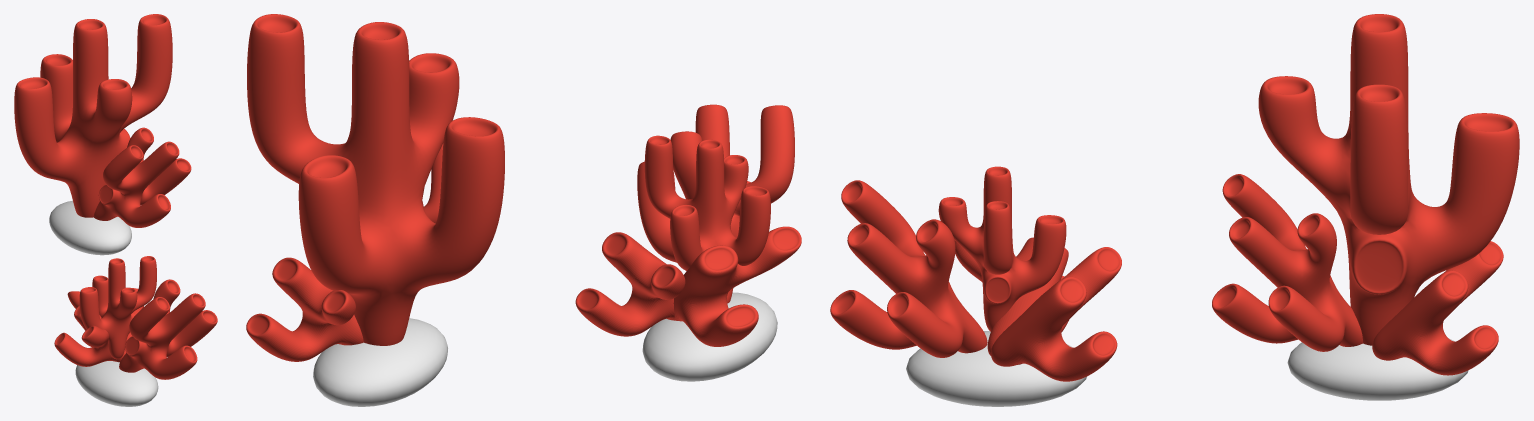
The model's file is coral_2.fbx.
The picture shows the model from 3 angles, left to right: view 1: azimuth 30°, elevation 25°; view 2: azimuth 150°, elevation 25°; view 3: azimuth 270°, elevation 25°; orthographic projection. The views are drawn at different scales.
Parts seen in each view (by area): view 1: Cube, Cube.004, Cube.001, Cube.003, Sphere, Sphere.001, Cube.006, Cube.005; view 2: Cube, Cube.003, Cube.004, Sphere, Cube.006, Cube.002, Cube.005, Sphere.001, Cube.001; view 3: Cube, Cube.004, Cube.001, Cube.003, Cube.005, Cube.002, Sphere.001, Sphere, Cube.006.
Boxes of the visible parts, box(x1,y1,x2,y2) form: Cube: box(14, 14, 172, 217); Cube.004: box(119, 279, 217, 379); Cube.001: box(93, 127, 191, 227); Cube.003: box(79, 256, 156, 359); Sphere: box(49, 200, 131, 255); Sphere.001: box(75, 361, 158, 406); Cube.006: box(54, 305, 126, 366); Cube.005: box(67, 287, 143, 341); Cube: box(247, 14, 504, 345); Cube.003: box(644, 135, 770, 270); Cube.004: box(637, 104, 794, 303); Sphere: box(313, 318, 447, 406); Cube.006: box(667, 226, 801, 346); Cube.002: box(246, 257, 363, 361); Cube.005: box(575, 232, 685, 336); Sphere.001: box(642, 292, 777, 381); Cube.001: box(424, 143, 443, 223); Cube: box(1258, 14, 1519, 345); Cube.004: box(830, 180, 987, 357); Cube.001: box(1212, 174, 1362, 351); Cube.003: box(938, 166, 1066, 331); Cube.005: box(991, 247, 1121, 381); Cube.002: box(1372, 241, 1503, 375); Sphere.001: box(906, 331, 1086, 406); Sphere: box(1287, 338, 1468, 400); Cube.006: box(954, 237, 1068, 364).
Size of the model in its own units: 1295 by 1560 by 2185.
